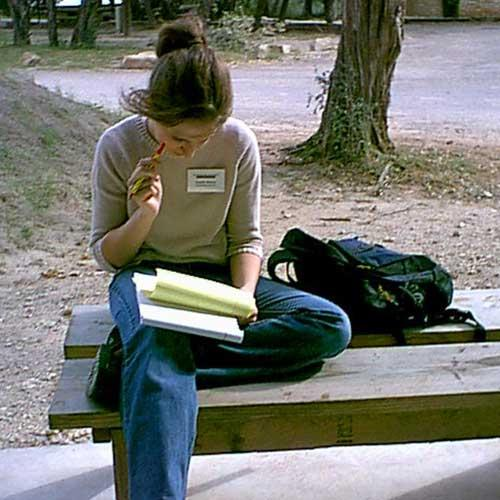person: (90, 20, 355, 500)
